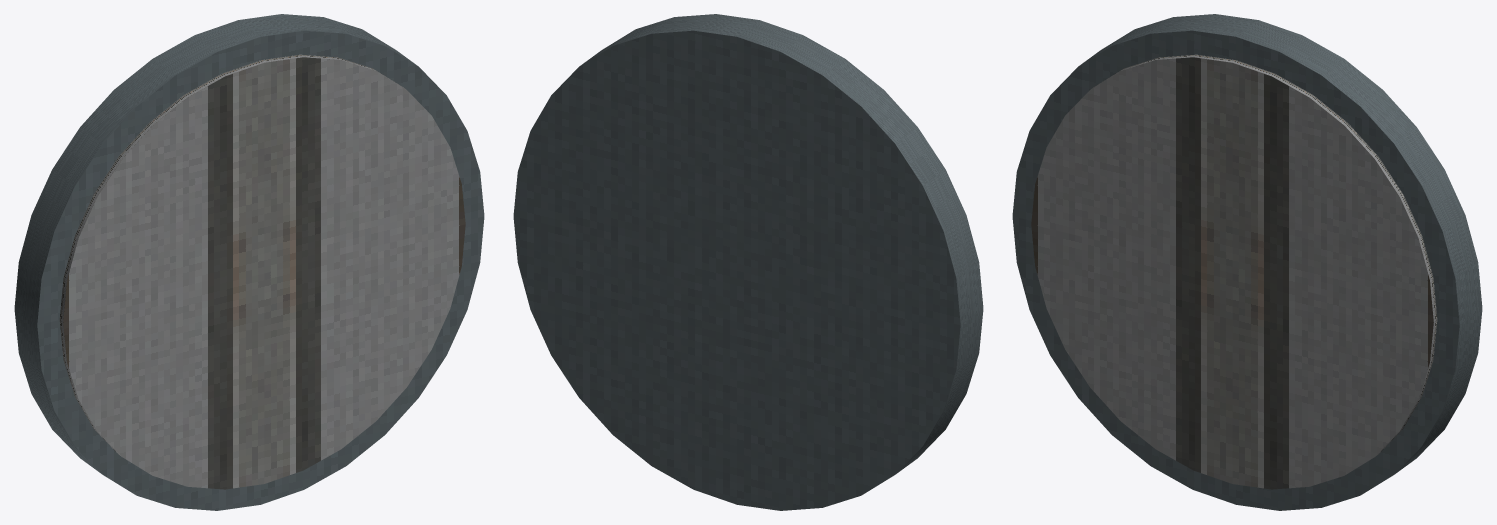
The model's file is lid.glb.
The picture shows the model from 3 angles, left to right: view 1: azimuth 30°, elevation 25°; view 2: azimuth 150°, elevation 25°; view 3: azimuth 330°, elevation 25°; orthographic projection.
Visible parts, largest first — view 1: face, rim; view 2: rim; view 3: face, rim.
Part boxes in pixels (box(x1,y1,x2,y2)): face: box(59, 54, 465, 489); rim: box(14, 14, 484, 510); rim: box(513, 14, 983, 510); face: box(1031, 54, 1437, 489); rim: box(1012, 14, 1482, 510).
Size of the model in its own units: 0.27 by 0.27 by 0.0275.
2 materials, 2 textured.
